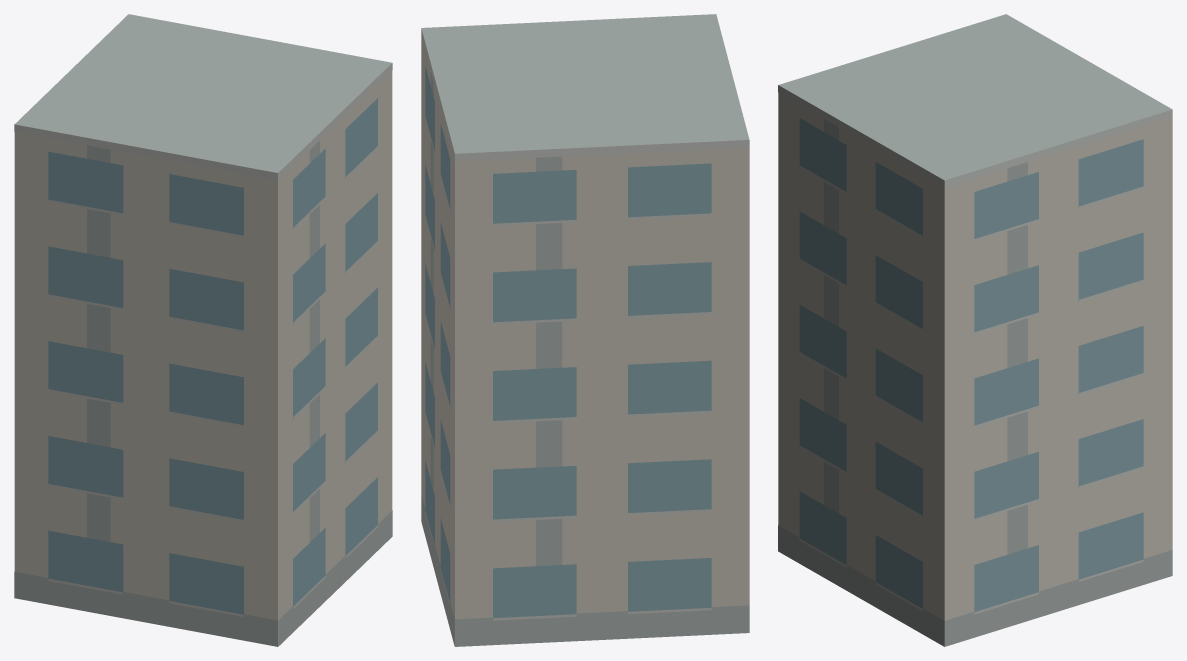
Rendered from residential-42f9c930-763d-407e-b8f8-2656901541cd.glb.
The picture shows the model from 3 angles, left to right: view 1: azimuth 30°, elevation 25°; view 2: azimuth 150°, elevation 25°; view 3: azimuth 270°, elevation 25°; orthographic projection. The views are drawn at different scales.
Parts seen in each view (by area): view 1: residential-42f9c930-763d-407e-b8f8-2656901541cd.tmp; view 2: residential-42f9c930-763d-407e-b8f8-2656901541cd.tmp; view 3: residential-42f9c930-763d-407e-b8f8-2656901541cd.tmp.
Part boxes in pixels (box(x1,y1,x2,y2)): residential-42f9c930-763d-407e-b8f8-2656901541cd.tmp: box(14, 14, 392, 646); residential-42f9c930-763d-407e-b8f8-2656901541cd.tmp: box(421, 14, 749, 646); residential-42f9c930-763d-407e-b8f8-2656901541cd.tmp: box(778, 14, 1172, 646).
Size of the model in its own units: 11.68 by 15.25 by 11.7.
